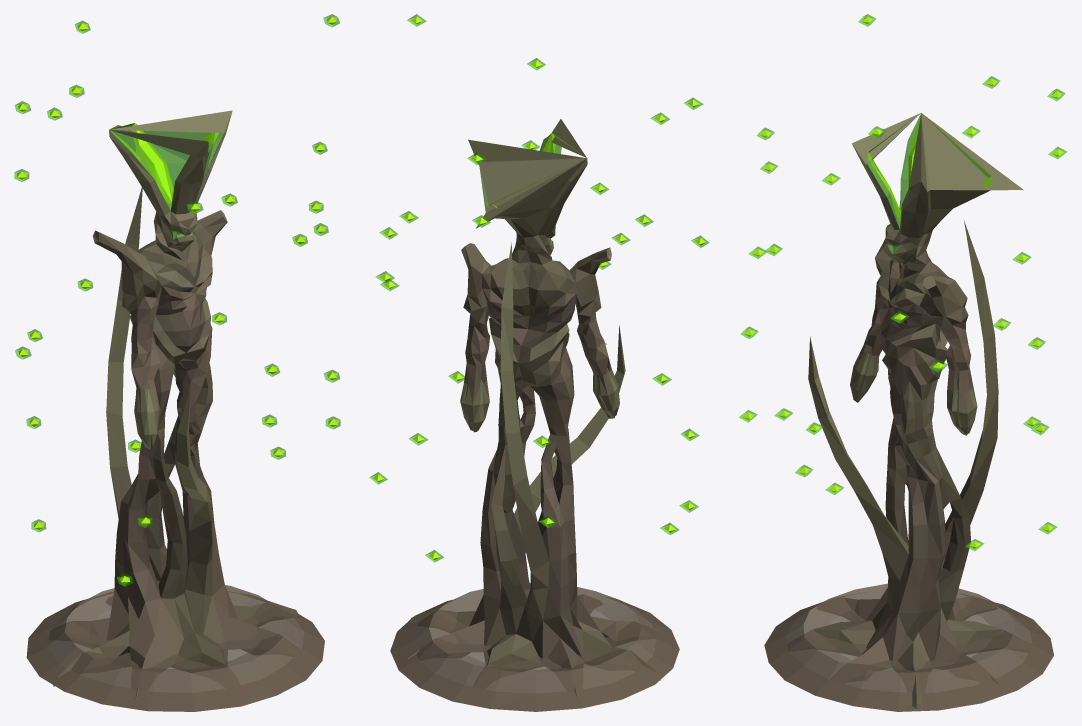
Rendered from hespori-patch.gltf.
3 views of the same model, side by side, from view 1: azimuth 30°, elevation 25°; view 2: azimuth 150°, elevation 25°; view 3: azimuth 270°, elevation 25° (orthographic). The views are drawn at different scales.
Bounding box in the file's own units: 373 × 735 × 369.
Materials: 2 (2 with a texture image).
